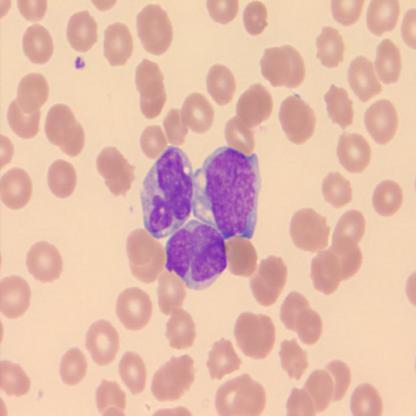Blast: (192, 144, 262, 238), (140, 143, 195, 237), (166, 219, 232, 288)
